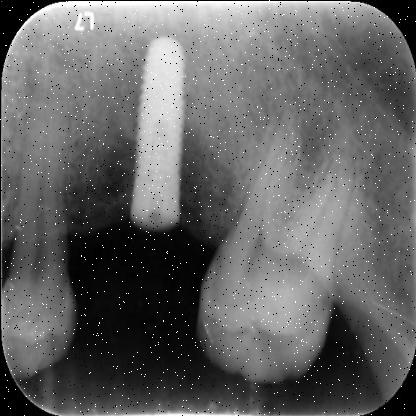Bego: (123, 26, 196, 236)
